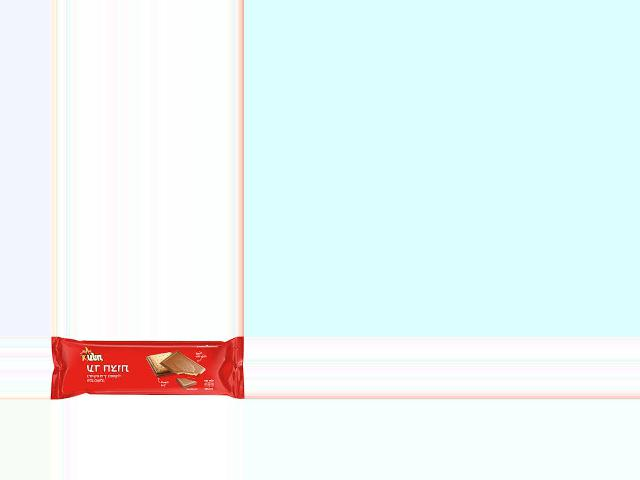chocolate: (55, 336, 242, 400)
